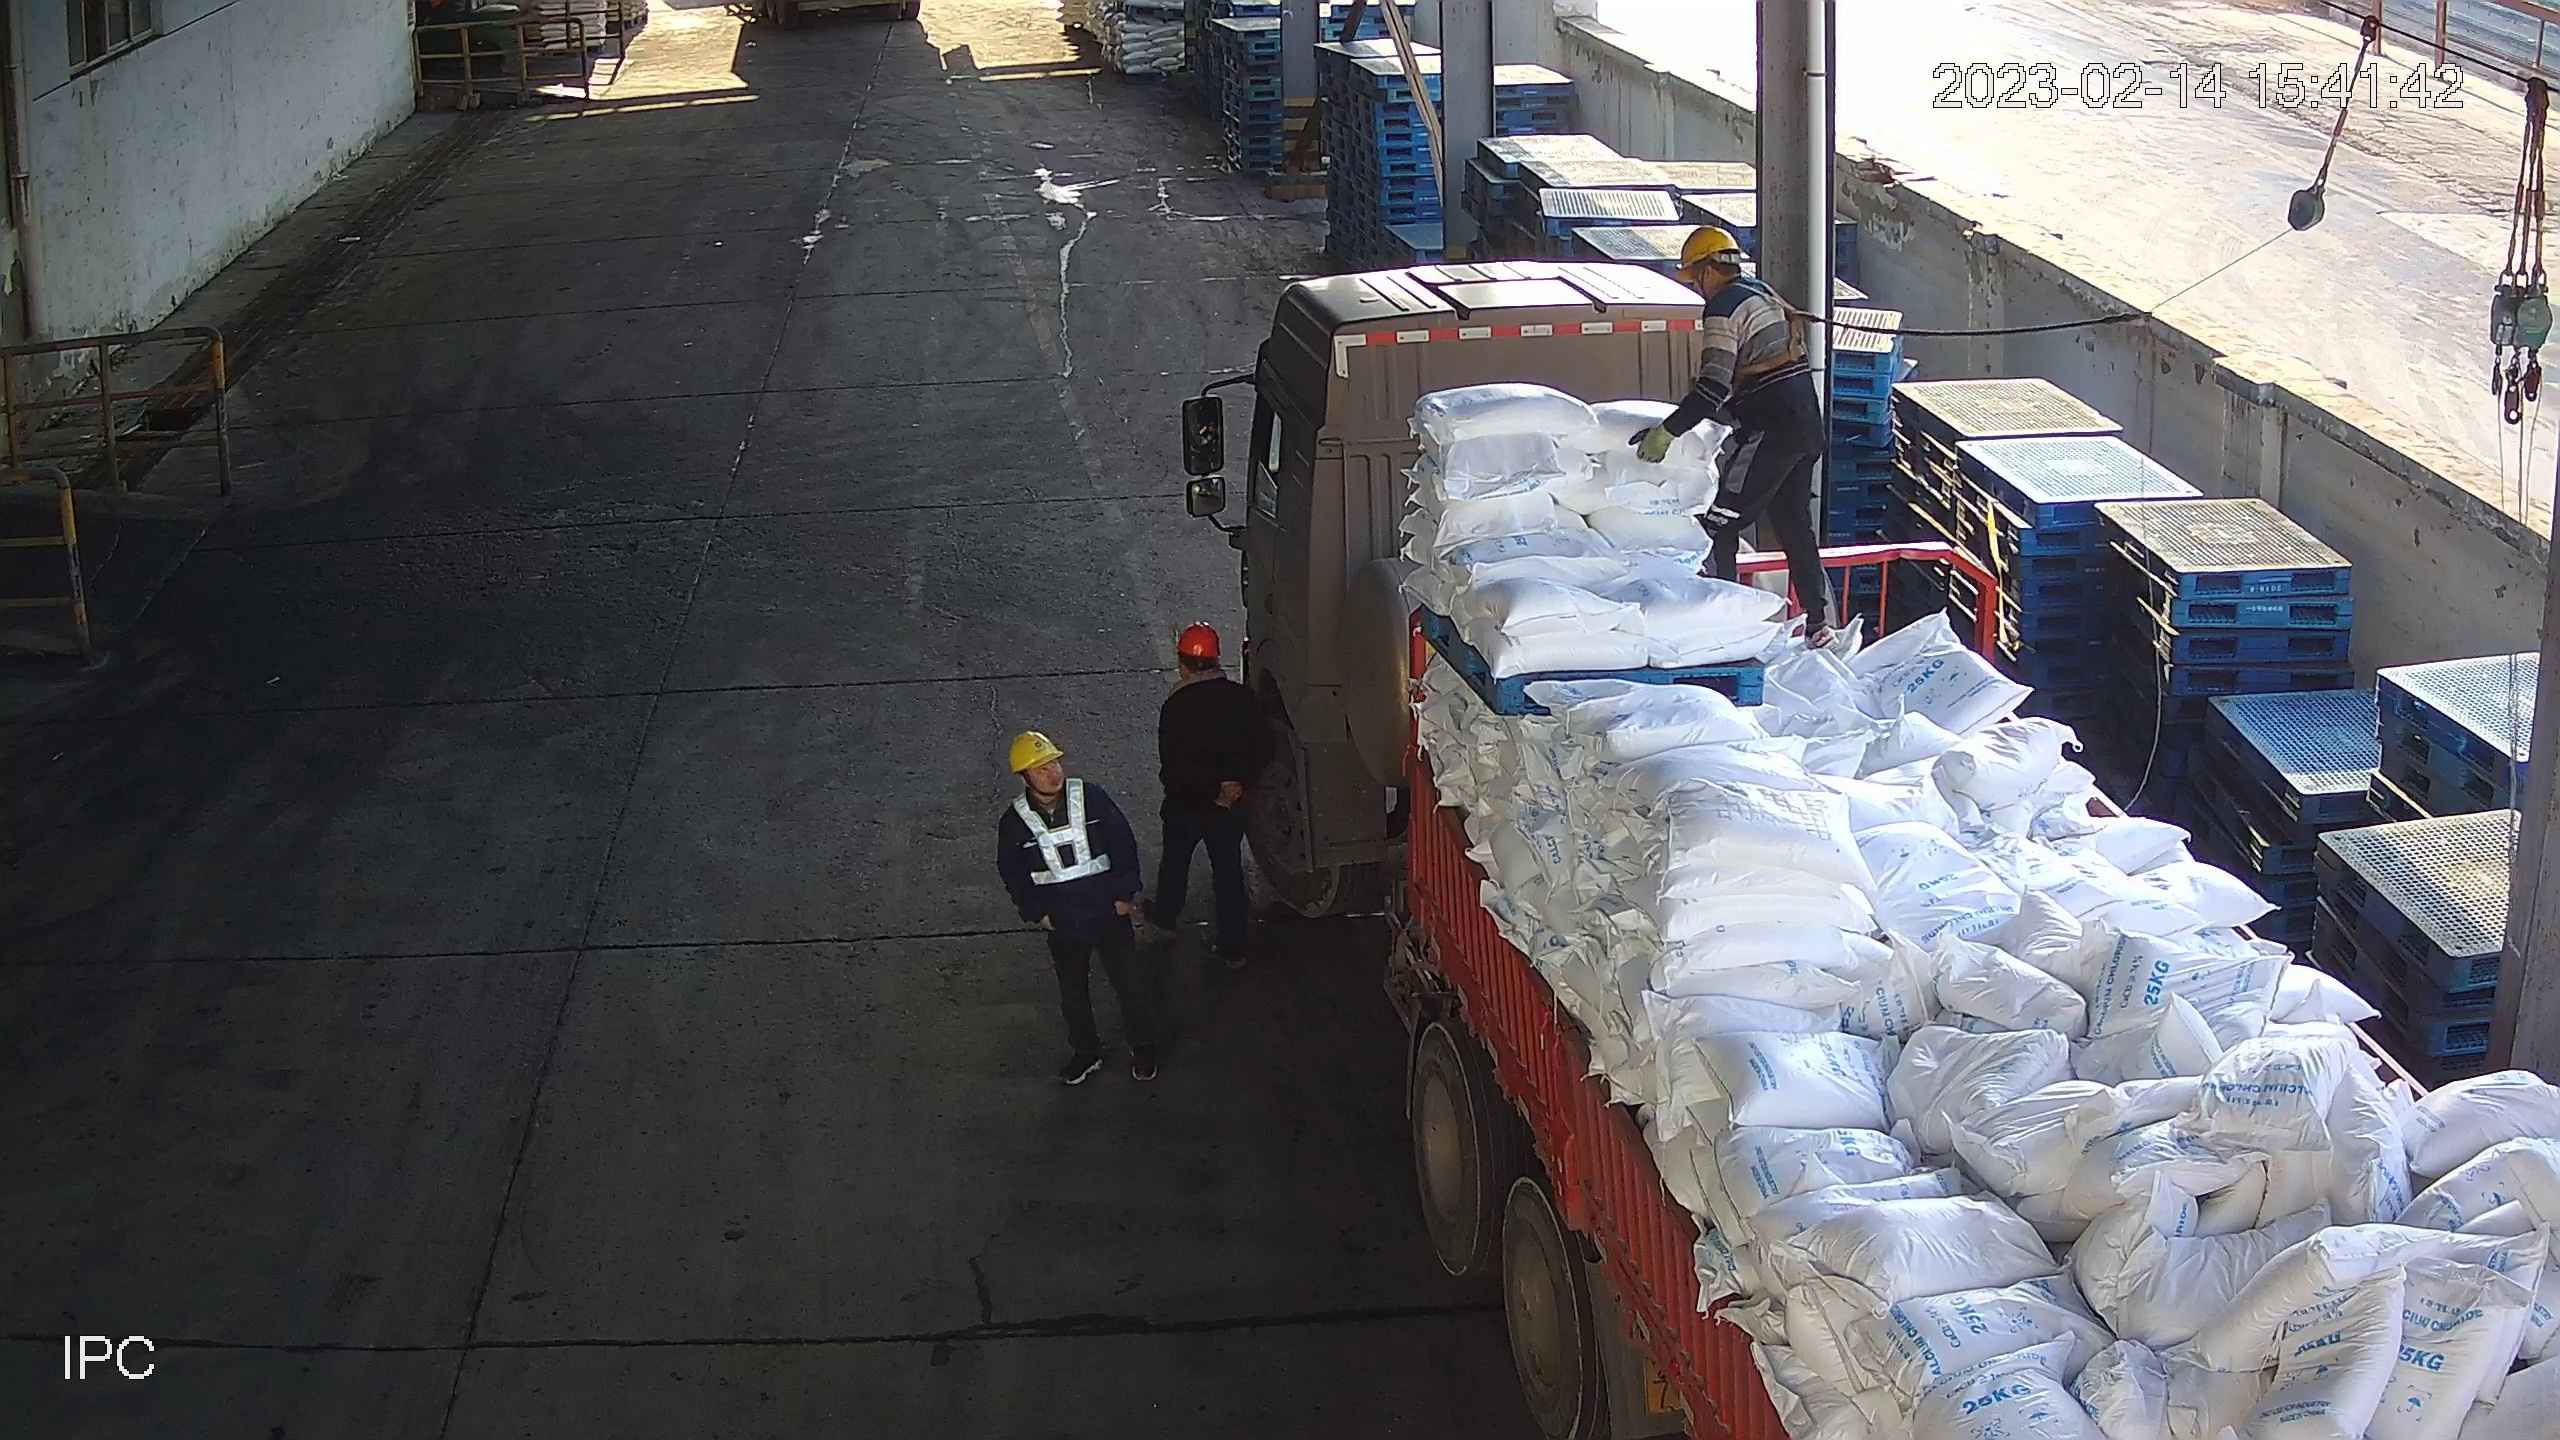belt: (1744, 282, 1835, 375)
head: (1661, 221, 1803, 344), (1155, 610, 1266, 721), (1005, 740, 1127, 825)
helmet: (1675, 221, 1751, 268), (1177, 614, 1233, 672), (998, 731, 1064, 775)
people: (1659, 225, 1855, 653), (1000, 727, 1170, 1099), (1155, 616, 1292, 953)
truck: (1201, 245, 2560, 1440)
